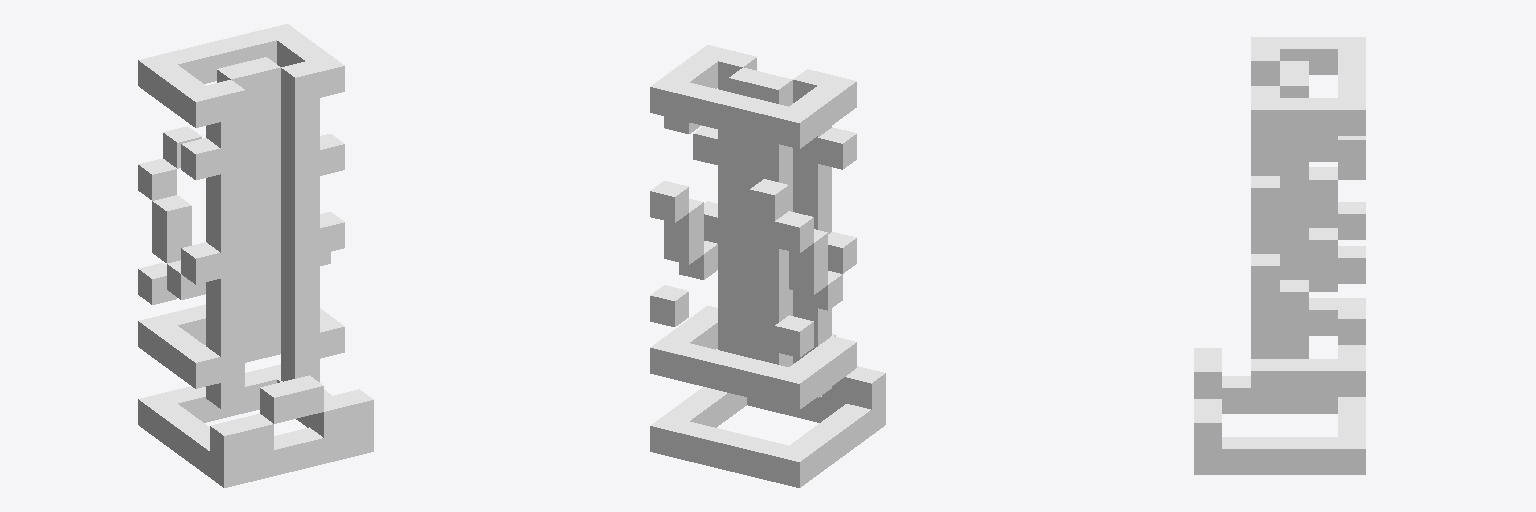
Rendered from RoboZomboLegColOnly.obj.
3 views of the same model, side by side, from view 1: azimuth 30°, elevation 25°; view 2: azimuth 150°, elevation 25°; view 3: azimuth 270°, elevation 25° (orthographic).
Bounding box in the file's own units: 6 × 14 × 6.